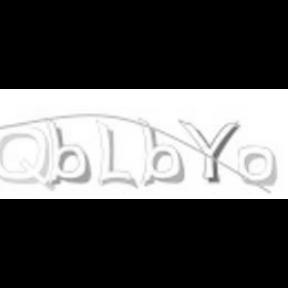L: (94, 118, 138, 188)
Q: (0, 122, 52, 190)
Y: (178, 117, 242, 184)
b: (138, 116, 184, 186), (44, 120, 92, 186)
o: (237, 144, 277, 186)
